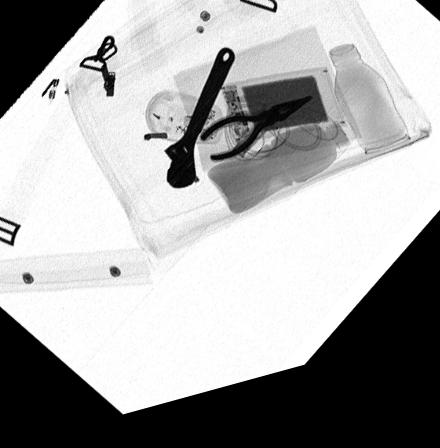Pliers: (198, 112, 314, 174)
Powerbank: (218, 82, 347, 157)
Wrench: (163, 58, 235, 199)
